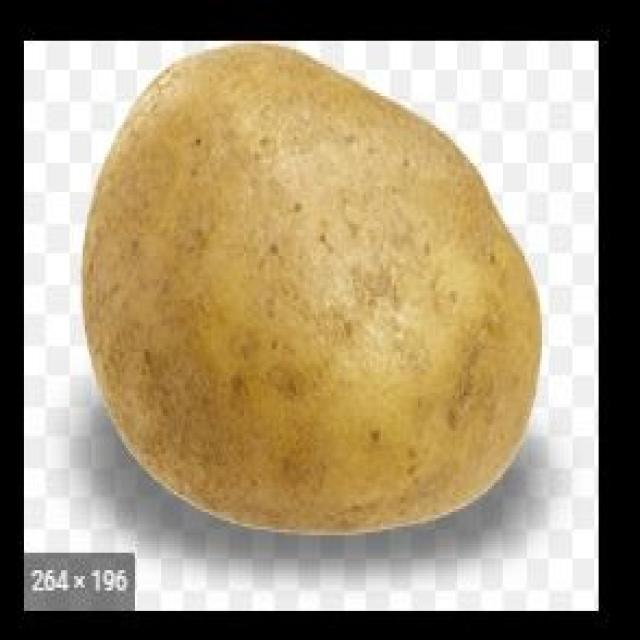potato: (83, 46, 542, 532)
